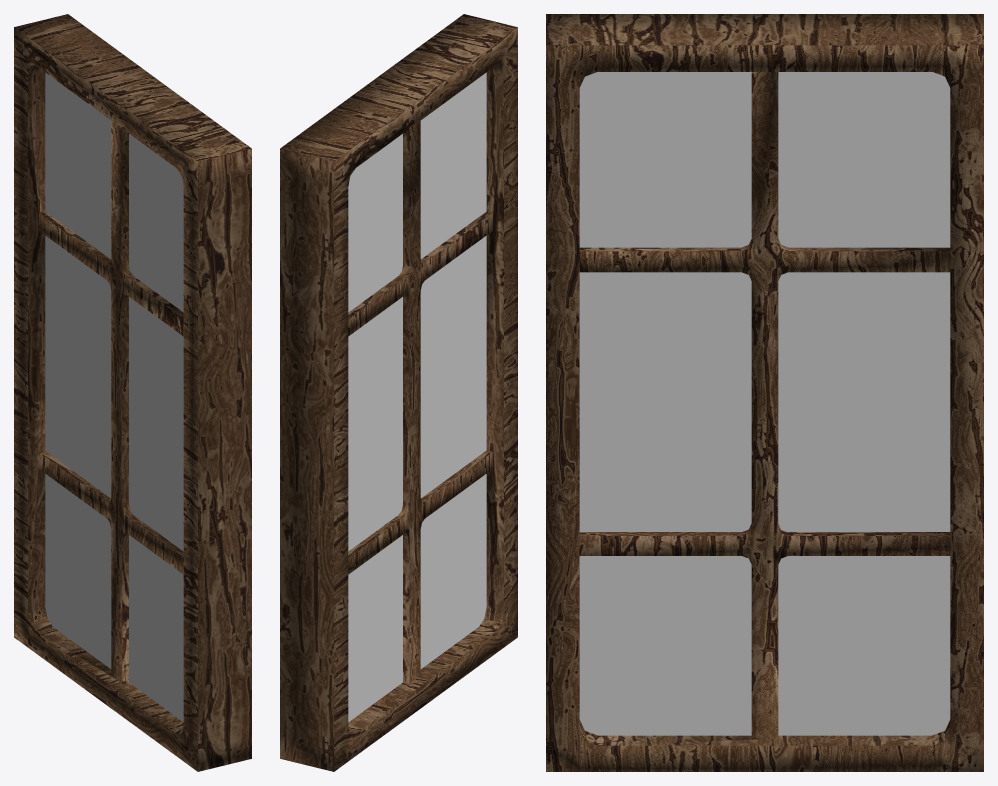
Rendered from Window.fbx.
The picture shows the model from 3 angles, left to right: view 1: azimuth 30°, elevation 25°; view 2: azimuth 150°, elevation 25°; view 3: azimuth 270°, elevation 25°; orthographic projection. The views are drawn at different scales.
Visible parts, largest first — view 1: Cube, Cube.002; view 2: Cube, Cube.002; view 3: Cube.002, Cube.
Part boxes in pixels (bbox=[...]): Cube: bbox=[14, 14, 251, 771]; Cube.002: bbox=[45, 72, 183, 721]; Cube: bbox=[280, 14, 517, 771]; Cube.002: bbox=[348, 72, 486, 721]; Cube.002: bbox=[579, 72, 950, 735]; Cube: bbox=[546, 14, 983, 771].
Size of the model in its own units: 33.95 by 366 by 200.
